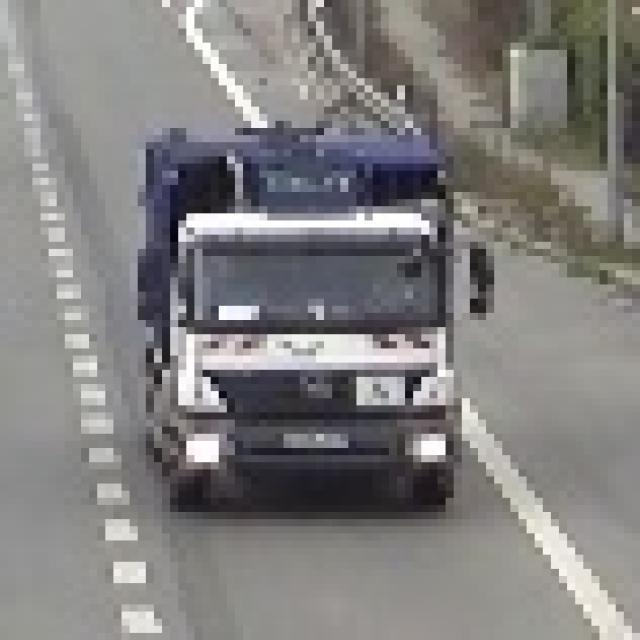truck: (130, 114, 487, 505)
